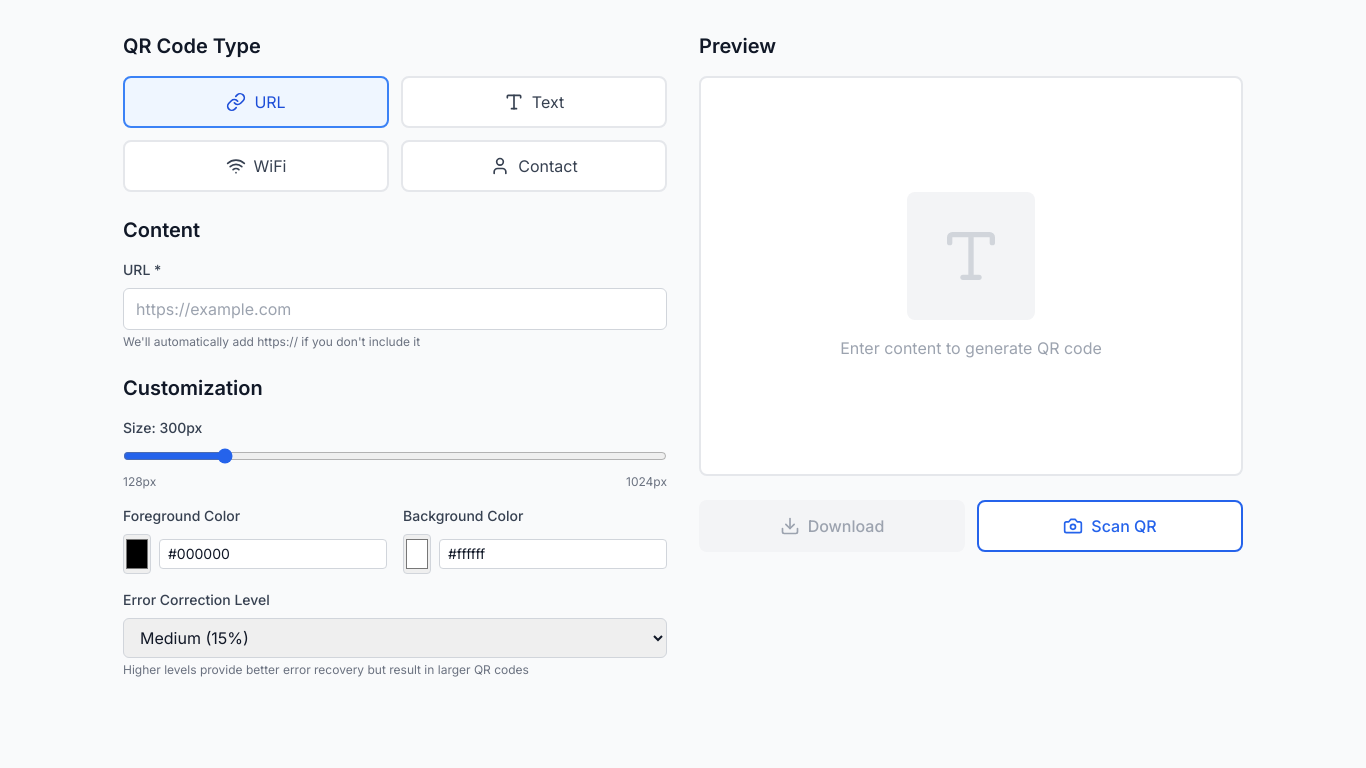
it: QRCodeBuilder Integration Tests › switches QR code types correctly
Switch to Text type
Click the radio button with aria-label "Select Text QR code type": point(534, 102) [401, 76, 667, 128]
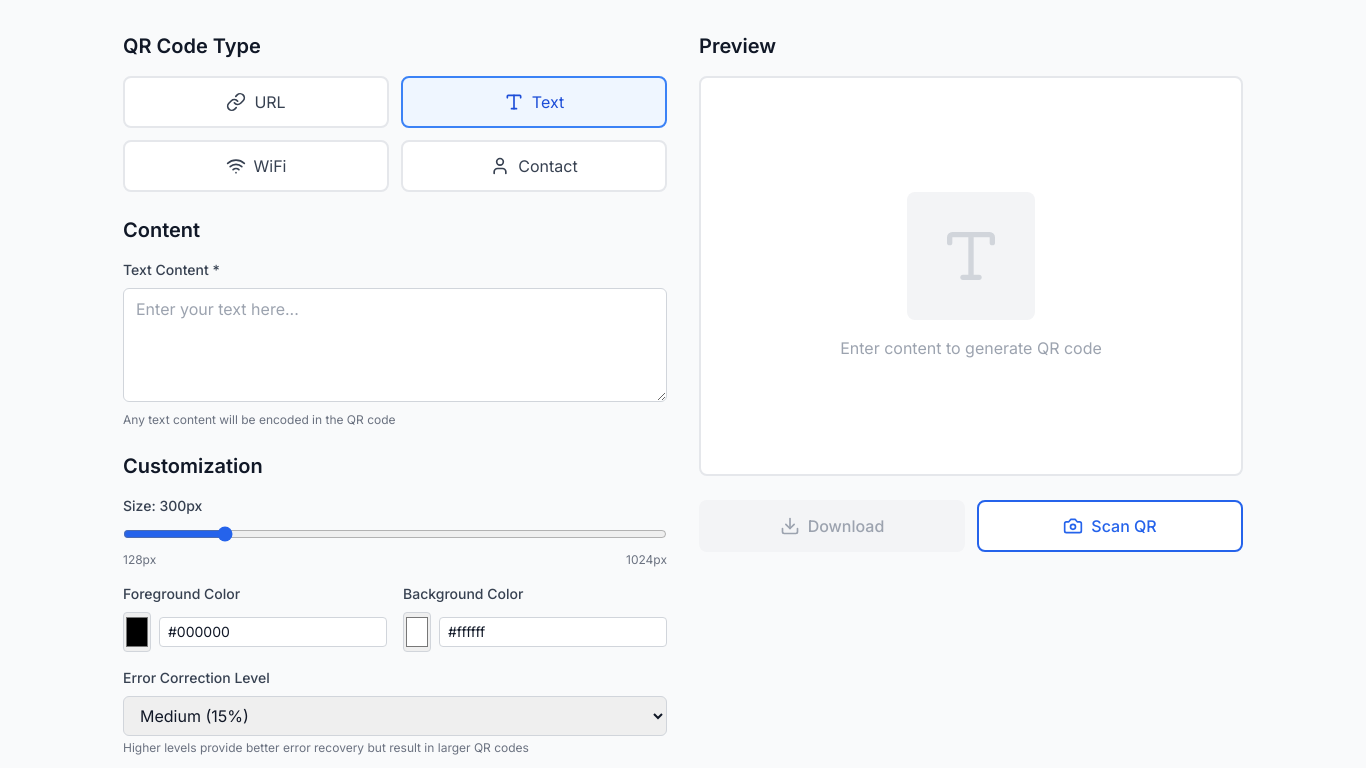
Expected: the text box labelled "Text Content *" is shown, [123, 288, 667, 402]
Switch to WiFi type
Click the radio button with aria-label "Select WiFi QR code type": point(256, 166) [123, 140, 389, 192]
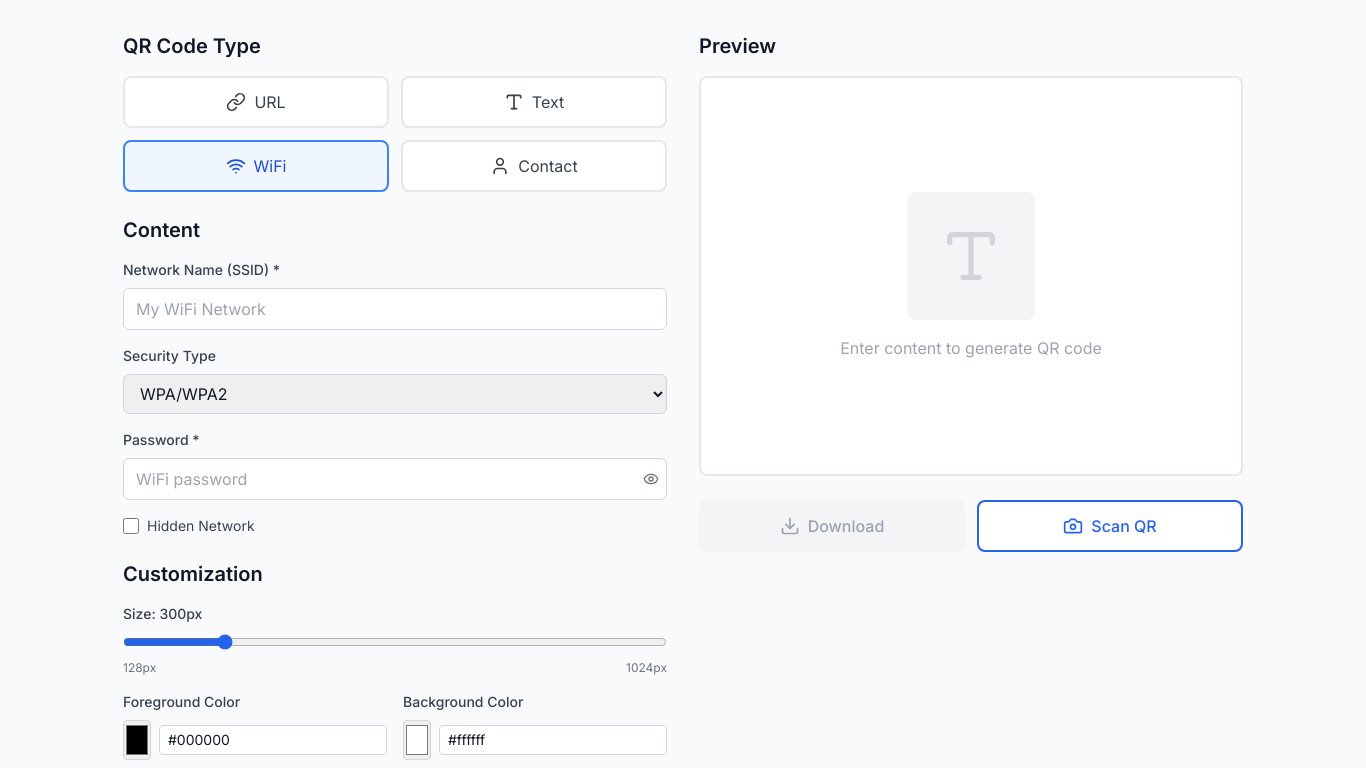
Expected: the field labelled "Network Name (SSID) *" is shown, [123, 288, 667, 330]
Switch to Contact type
Click the radio button with aria-label "Select Contact QR code type": point(534, 166) [401, 140, 667, 192]
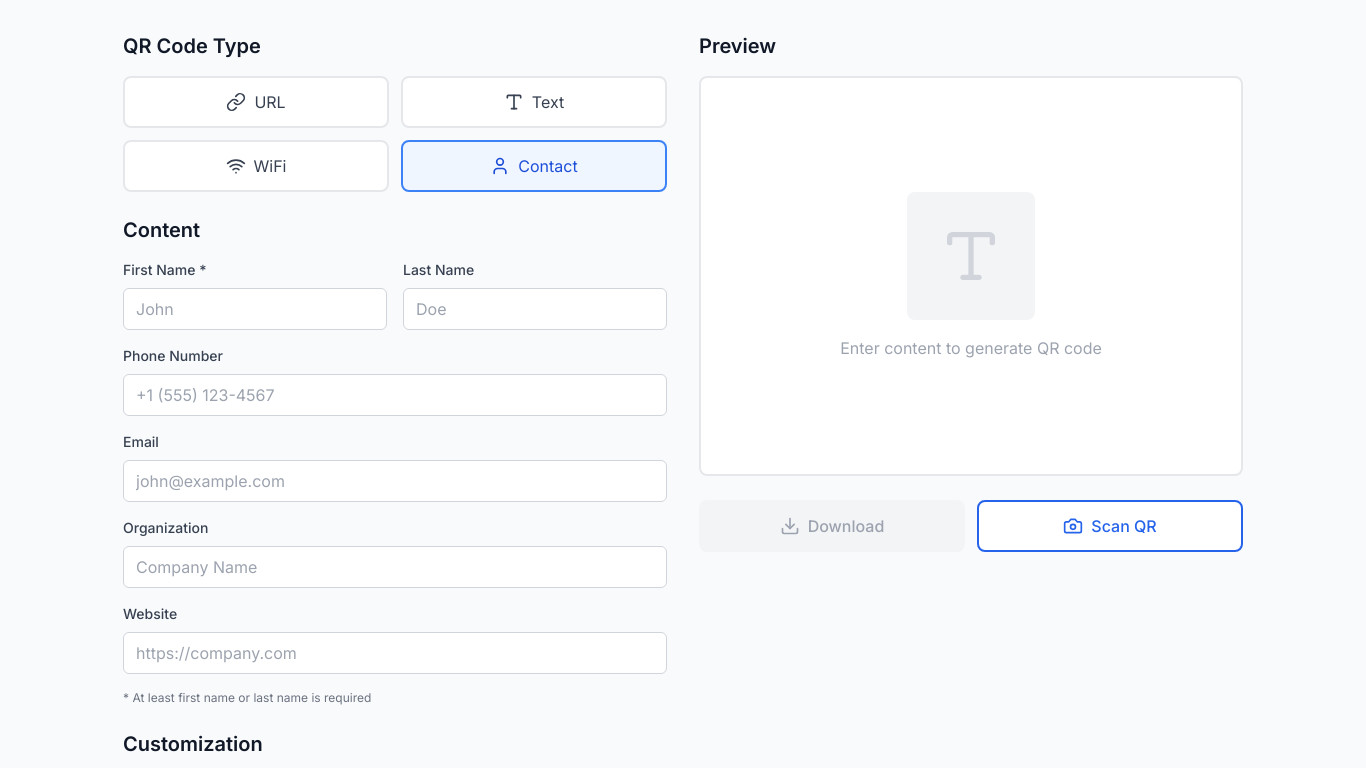
Expected: the field labelled "First Name *" is shown, [123, 288, 387, 330]
Switch back to URL type
Click the radio button with aria-label "Select URL QR code type": point(256, 102) [123, 76, 389, 128]
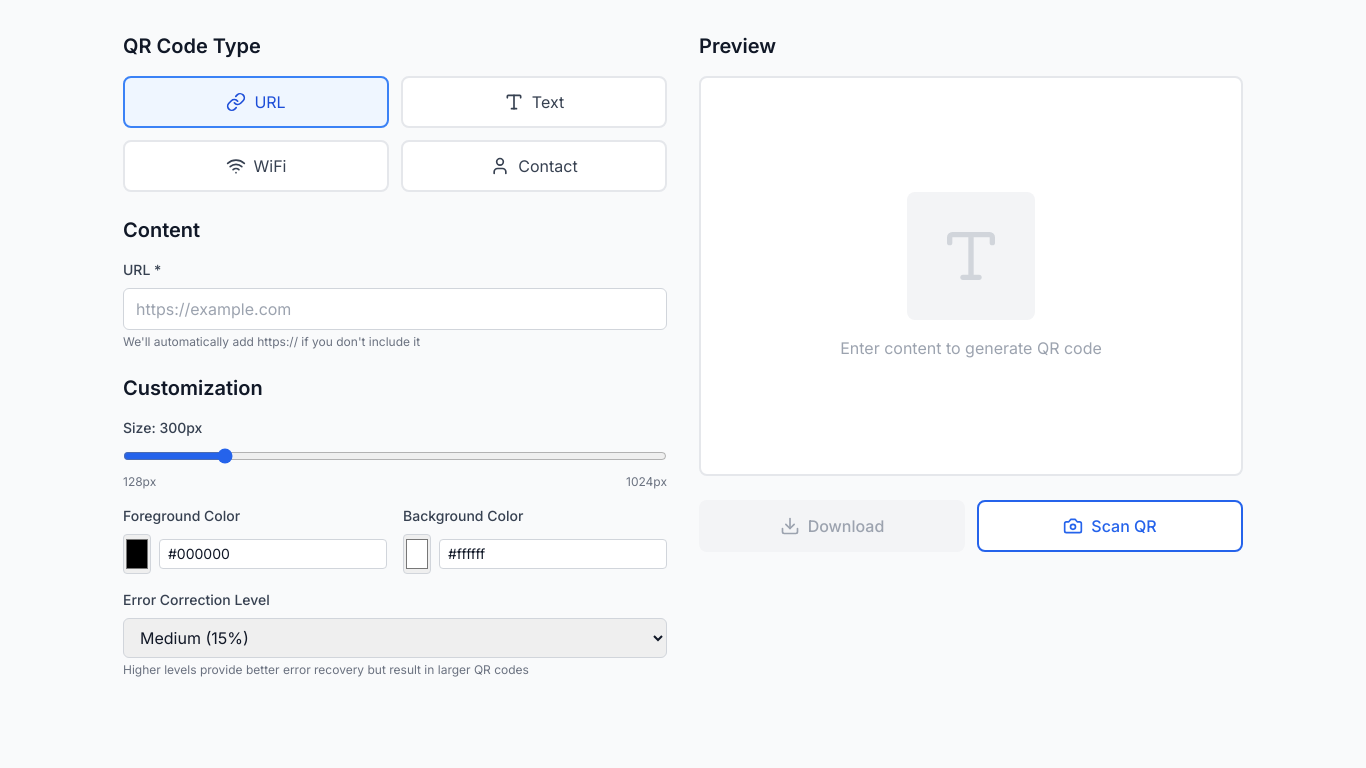
Expected: the field labelled "URL *" is shown, [123, 288, 667, 330]
